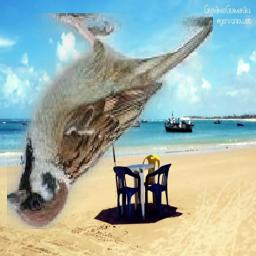Sparrow: (7, 13, 213, 229)
